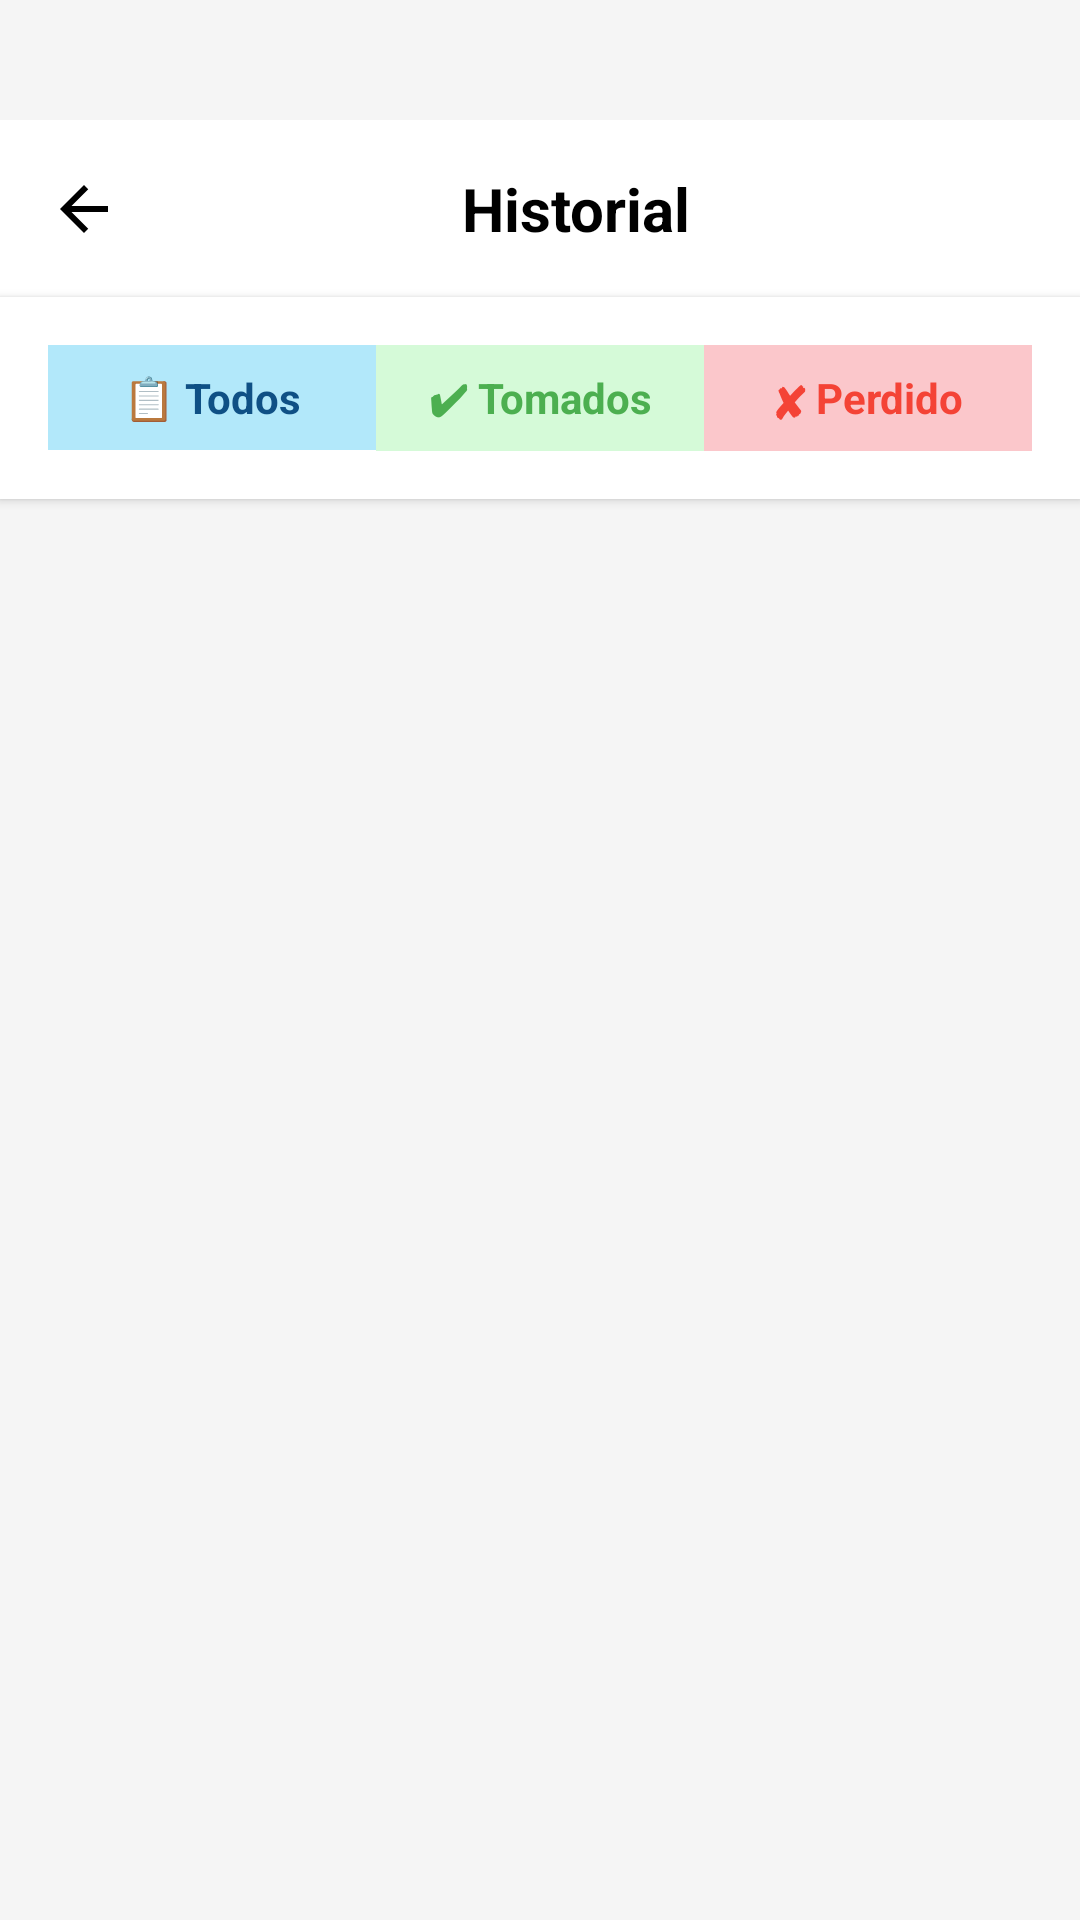

Icons on this 1080×1920 Android screen, each with its box as (x1, y1, x2, y2):
Volver: (60, 185, 108, 233)
